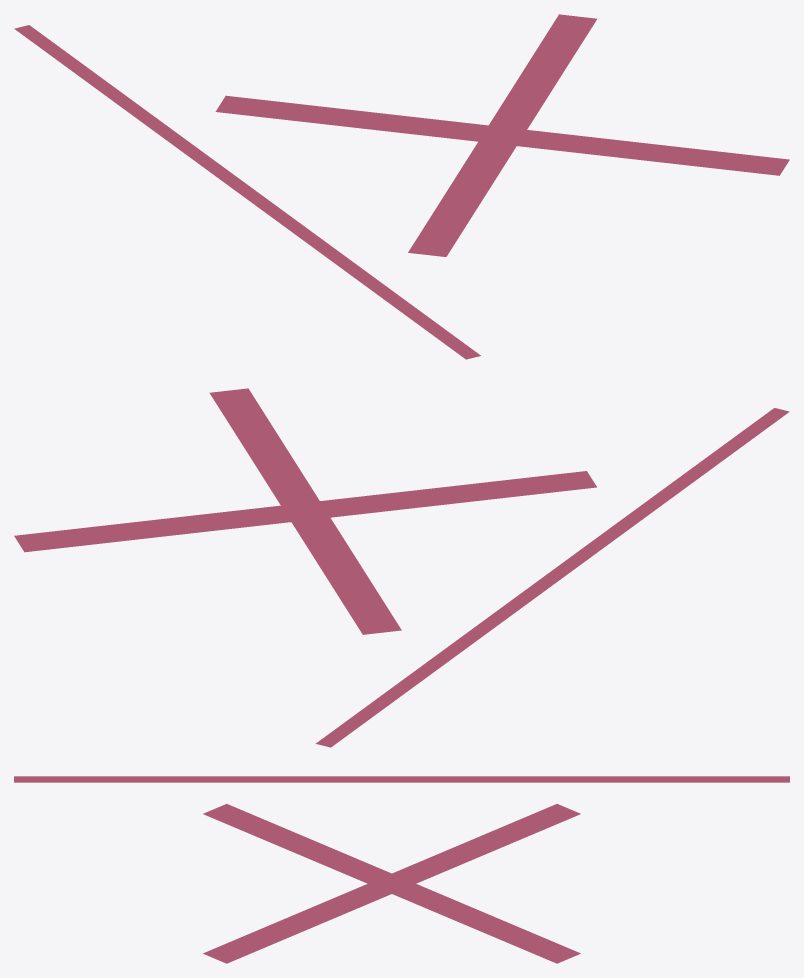
Rendered from squidgame_props_X.fbx.
3 views of the same model, one above another, from view 1: azimuth 30°, elevation 25°; view 2: azimuth 150°, elevation 25°; view 3: azimuth 270°, elevation 25° (orthographic). The views are drawn at different scales.
Parts seen in each view (by area): view 1: squidgame_props_X; view 2: squidgame_props_X; view 3: squidgame_props_X.
Boxes of the visible parts, <box> form: squidgame_props_X: <box>14,14,789,359</box>; squidgame_props_X: <box>14,388,789,747</box>; squidgame_props_X: <box>14,776,789,963</box>.
Bounding box in the file's own units: 4.58 × 5.45e-15 × 8.02.
